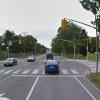Crosswalk: (2, 63, 85, 85)
